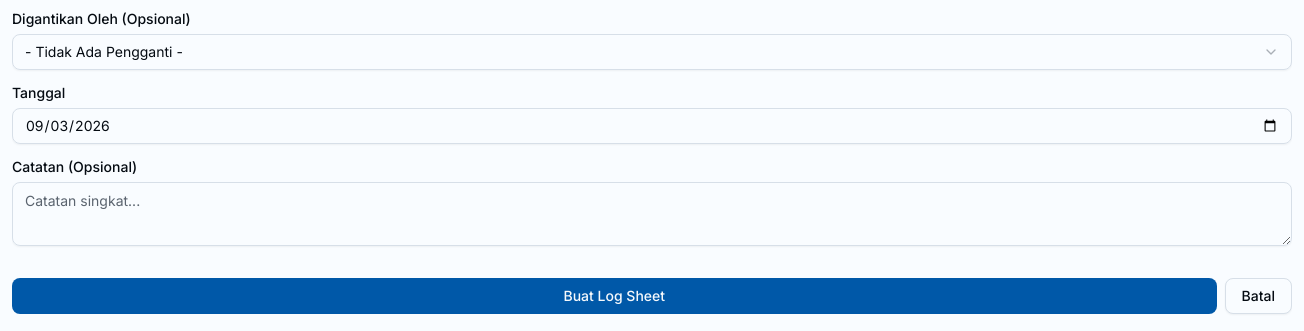
Test: LogSheetForm - characterization › technician select › shows selected technician name after selection (main path)
Click the dropdown at (104, 52), box [12,34,1292,70]
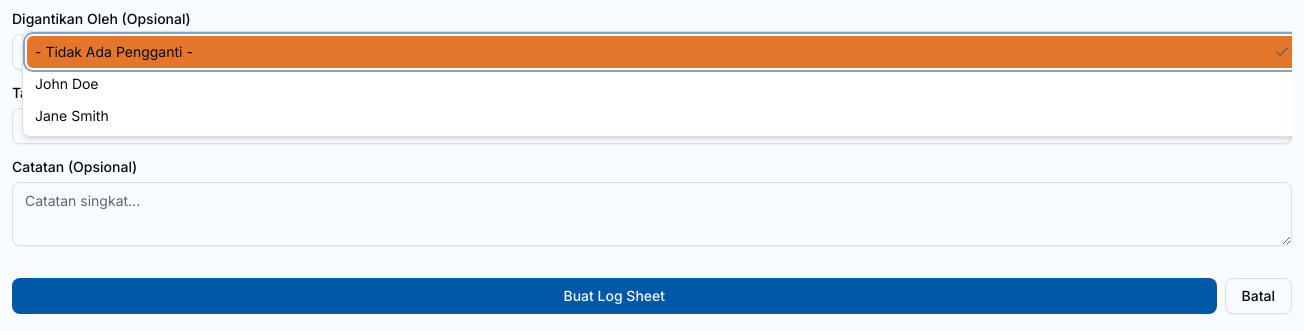
Click the option "John Doe" at (67, 84), box [35,75,98,92]
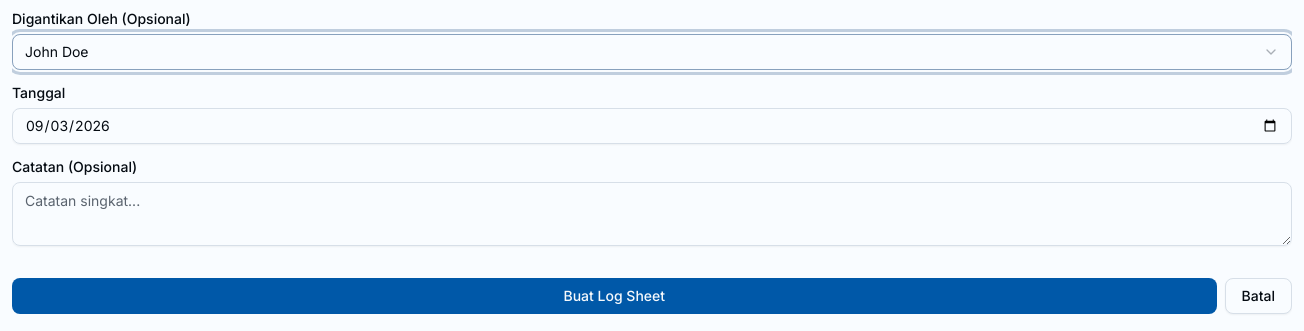
Expected: the text "John Doe" is shown, [25,42,88,62]
